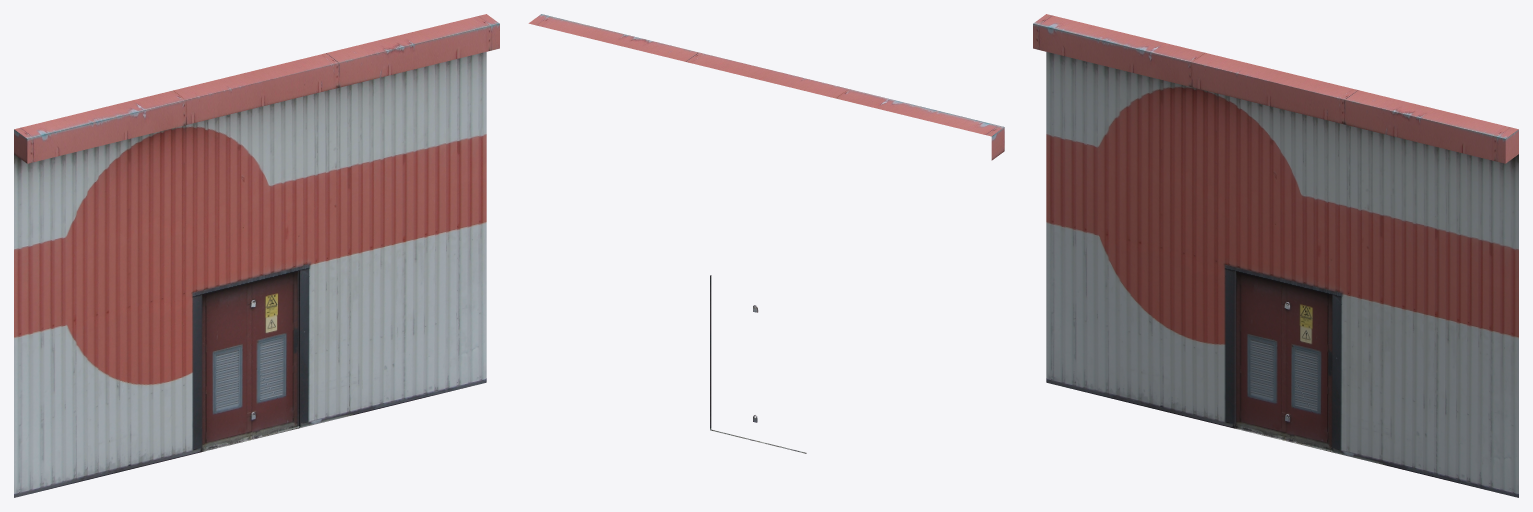
File: 06_wall_steel_corrugated_door.glb
3 views of the same model, side by side, from view 1: azimuth 30°, elevation 25°; view 2: azimuth 150°, elevation 25°; view 3: azimuth 330°, elevation 25° (orthographic). The views are drawn at different scales.
Visible parts, largest first — view 1: wall_steel_corrugated_door; view 2: wall_steel_corrugated_door; view 3: wall_steel_corrugated_door.
Part boxes in pixels (x1,y1,x2,y2): wall_steel_corrugated_door: (14,14,499,497); wall_steel_corrugated_door: (528,14,1004,453); wall_steel_corrugated_door: (1033,14,1518,497).
Bounding box in the file's own units: 4.99 × 3.72 × 0.2643.
Materials: 1 (1 with a texture image).
